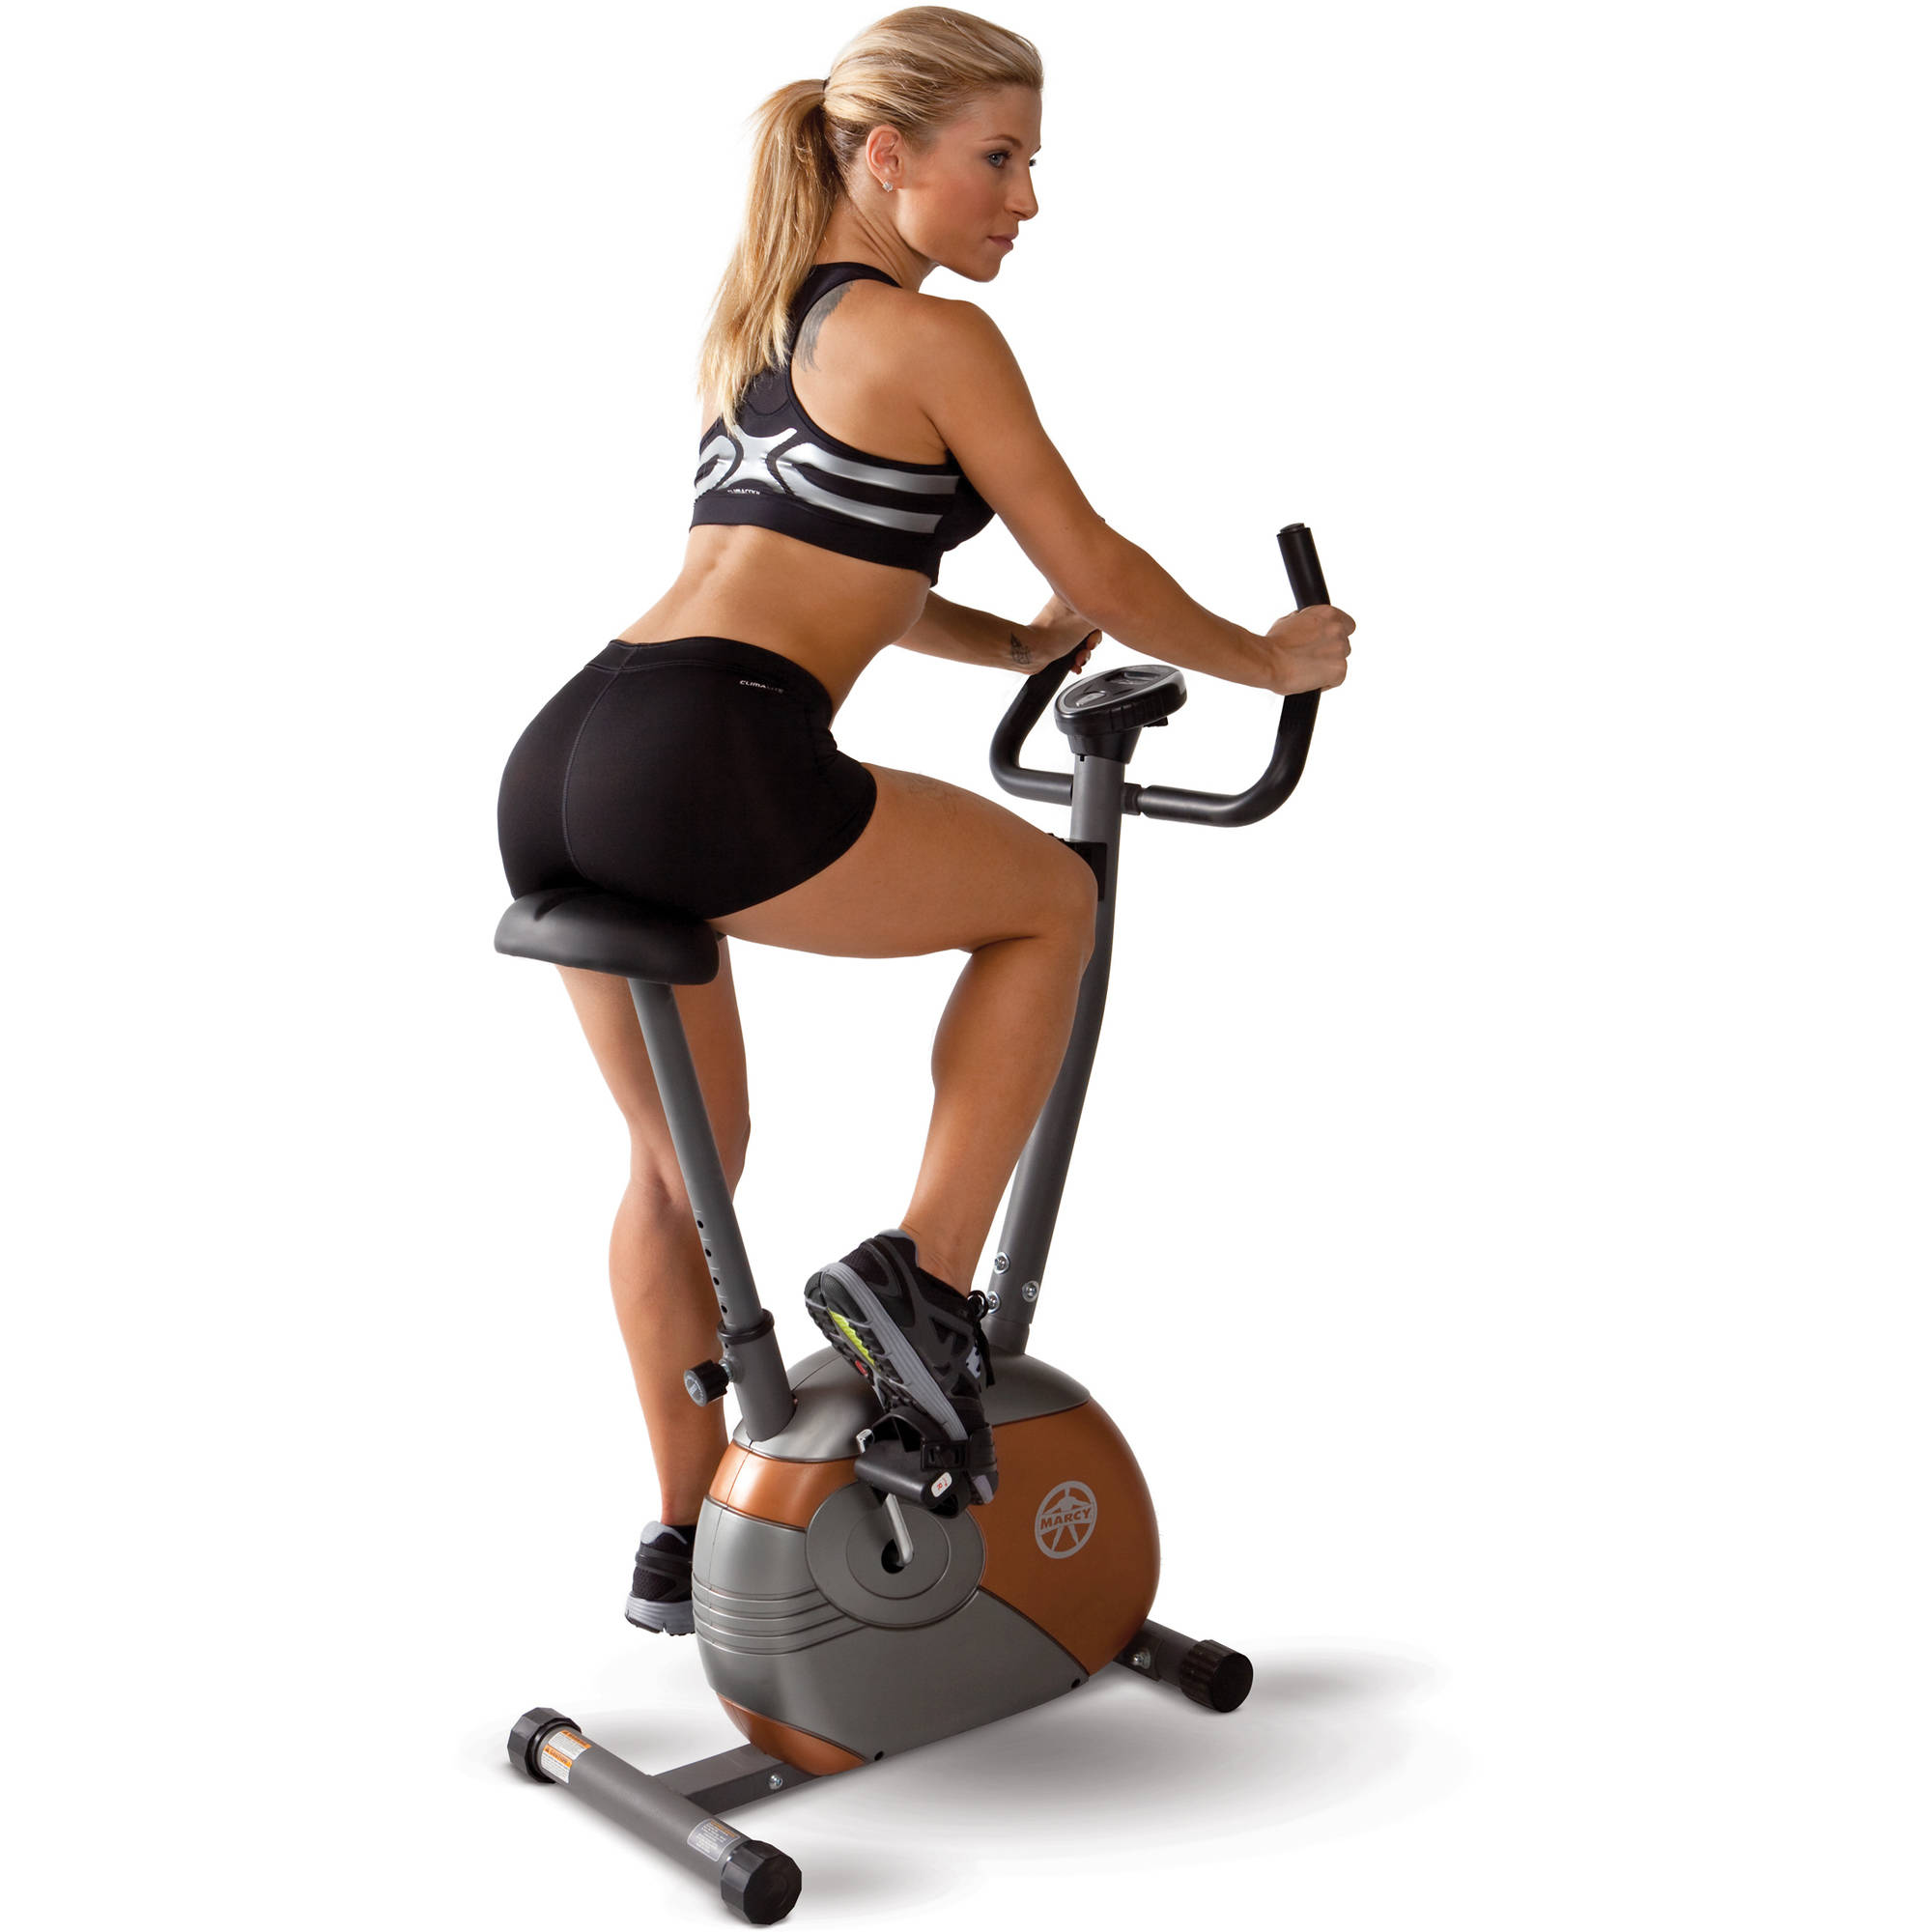gym_bike: (407, 543, 1430, 1907)
